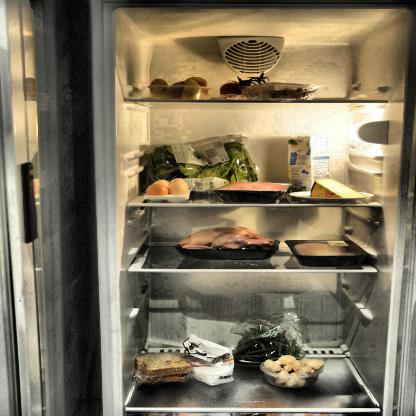cheese: (310, 178, 366, 201)
chicken: (174, 226, 278, 260), (293, 242, 362, 262)
eggs: (146, 177, 188, 199)
green_beans: (231, 325, 308, 370)
ground_beef: (216, 181, 293, 202)
milk: (289, 134, 332, 196)
mushrooms: (261, 356, 324, 388)
potato: (152, 77, 210, 100)
shrimp: (240, 84, 320, 102)
spinach: (144, 139, 261, 194)
tomato: (218, 74, 282, 101)
